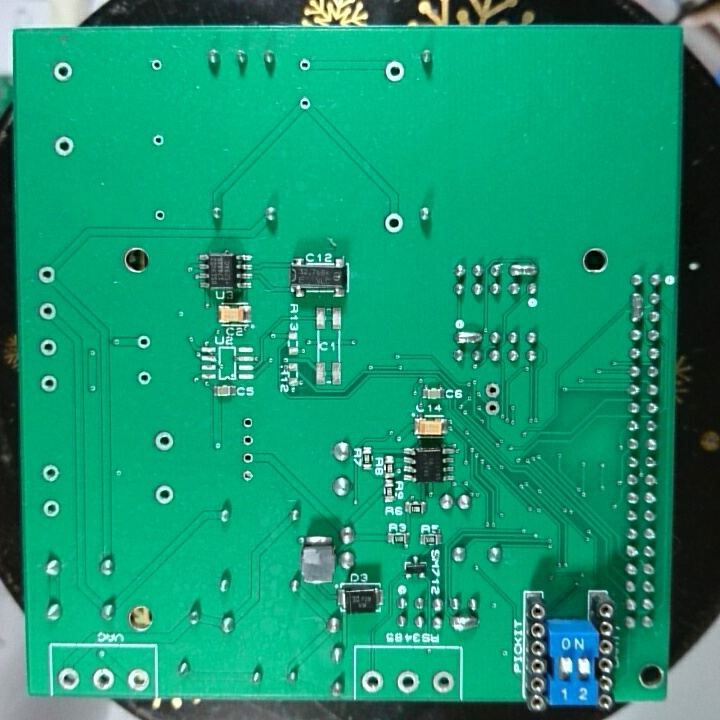F: (90, 665, 117, 694), (360, 668, 387, 696), (394, 669, 422, 696), (125, 665, 151, 693), (431, 668, 454, 698), (56, 666, 82, 692), (382, 59, 407, 86), (51, 135, 77, 160), (153, 482, 177, 509), (382, 212, 406, 236), (152, 428, 176, 452), (34, 264, 60, 286), (51, 59, 74, 83), (37, 335, 61, 358), (37, 300, 59, 323), (39, 463, 62, 485), (41, 498, 62, 521), (39, 374, 61, 395), (482, 380, 503, 400), (482, 398, 502, 418), (134, 333, 154, 352), (296, 55, 314, 75), (134, 369, 154, 387), (148, 55, 165, 75), (296, 95, 314, 113), (240, 431, 258, 449), (239, 466, 257, 484), (149, 132, 168, 149), (240, 448, 257, 466), (240, 415, 256, 431), (153, 207, 166, 223)
P: (628, 289, 648, 324), (449, 612, 482, 632), (508, 260, 541, 279), (452, 328, 485, 346)
